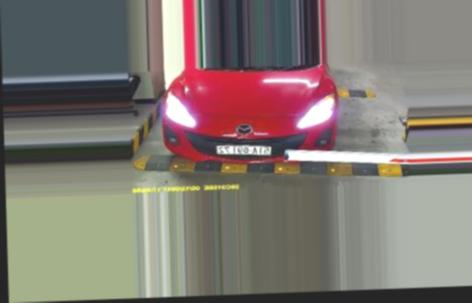License_Plate: (216, 142, 272, 158)
